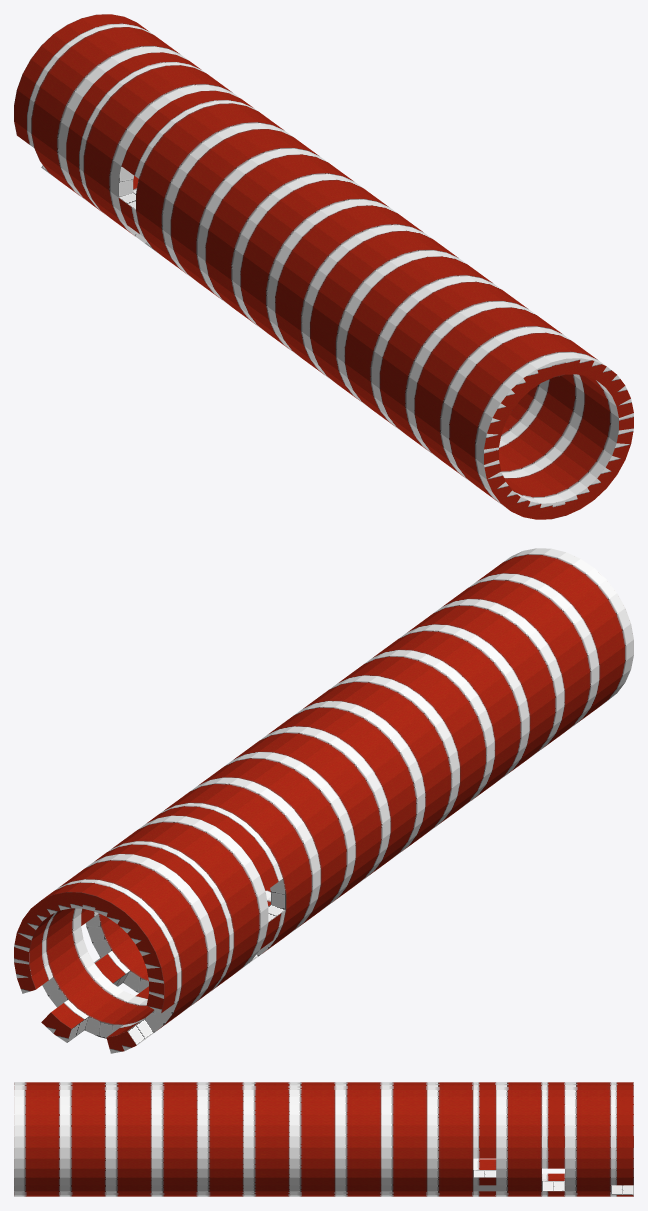
The model's file is pipe3.dae.
The picture shows the model from 3 angles, top to bottom: view 1: azimuth 30°, elevation 25°; view 2: azimuth 150°, elevation 25°; view 3: azimuth 270°, elevation 25°; orthographic projection. The views are drawn at different scales.
Visible parts, largest first — view 1: pipe3; view 2: pipe3; view 3: pipe3.
Boxes of the visible parts, <box> form: pipe3: <box>14,14,633,519</box>; pipe3: <box>14,548,633,1053</box>; pipe3: <box>14,1082,633,1196</box>.
Bounding box in the file's own units: 4.98 × 27 × 4.98.
